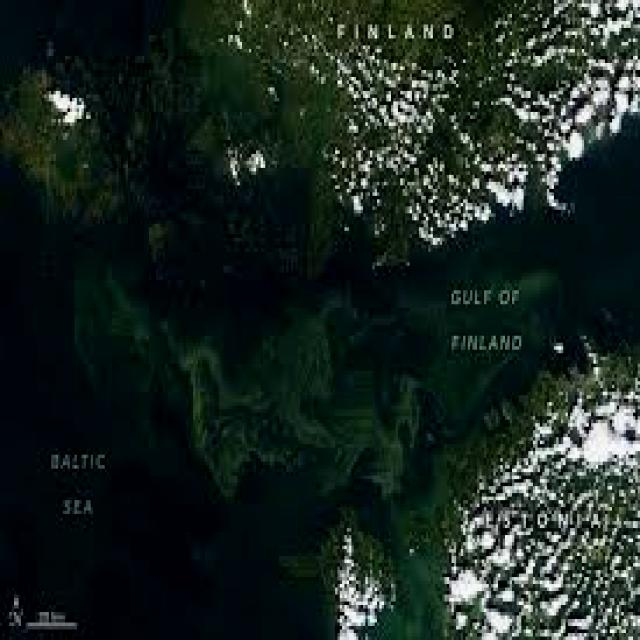algal: (163, 291, 421, 496), (75, 259, 179, 440), (0, 70, 118, 220)
